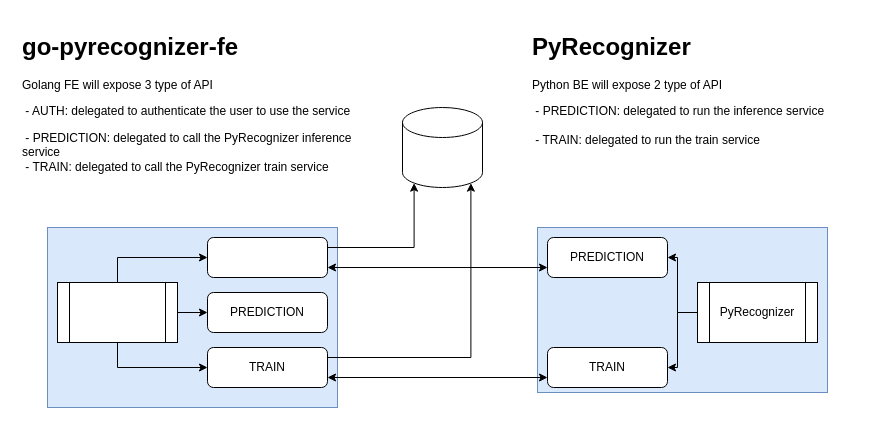
The diagram is 884 pixels wide and 425 high, and some of its shapes have lost their labels. Here are the shapes that lost their labels. From the top down, the centre of each, then its label:
(442,147): DB
(267,257): AUTH
(117,312): GOLANG-FE
